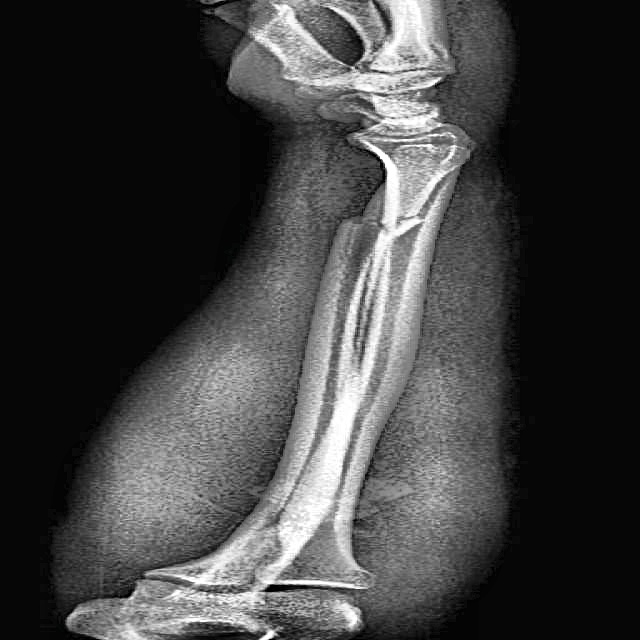Oblique Displaced: (293, 191, 487, 265)
